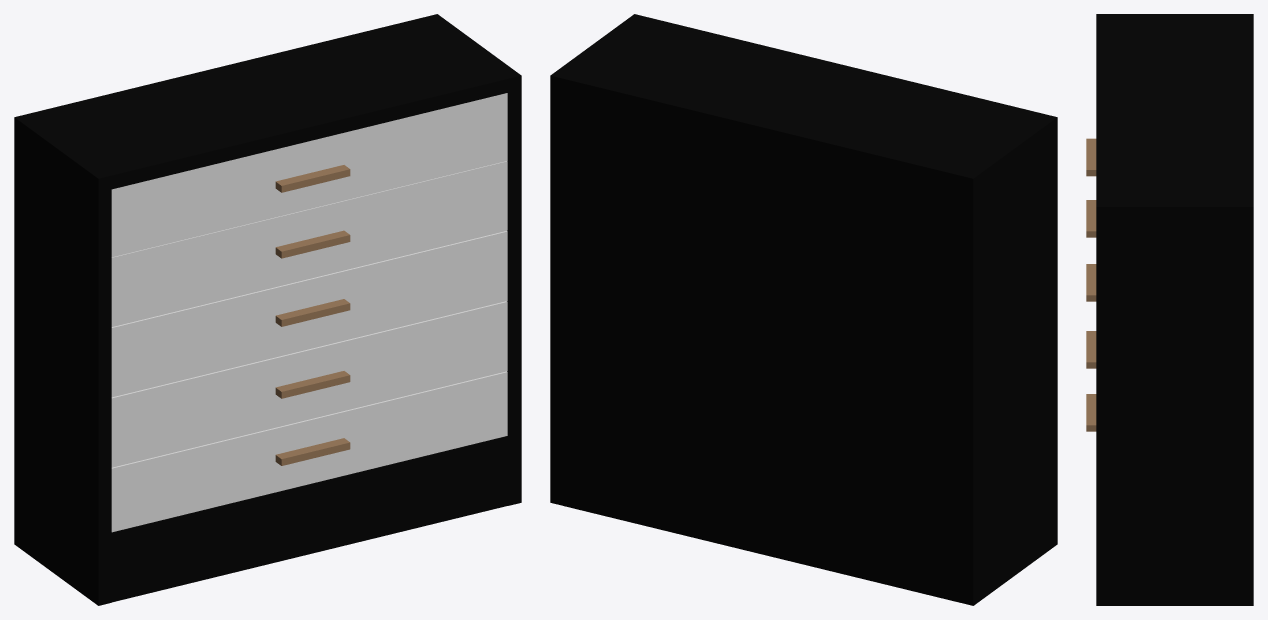
3 views of the same model, side by side, from view 1: azimuth 30°, elevation 25°; view 2: azimuth 150°, elevation 25°; view 3: azimuth 270°, elevation 25° (orthographic). The views are drawn at different scales.
Visible parts, largest first — view 1: Cube.004, Cube.003, Cube.005, Cube.008, Cube.007, Cube.006, Cube.001, Cube.009, Cube.002, Cube.012, Cube.013, Cube.010 (+2 smaller); view 2: Cube, Cube.004, Cube.003, Cube.002; view 3: Cube.002, Cube.004, Cube.010, Cube.011, Cube.012, Cube.013, Cube.014.
Part boxes in pixels (left/top/right/bottom): Cube.004: left=14, top=14, right=521, bottom=192; Cube.003: left=14, top=131, right=111, bottom=605; Cube.005: left=111, top=436, right=508, bottom=602; Cube.008: left=111, top=301, right=507, bottom=467; Cube.007: left=111, top=231, right=507, bottom=397; Cube.006: left=111, top=161, right=507, bottom=326; Cube.001: left=111, top=93, right=507, bottom=257; Cube.009: left=111, top=371, right=507, bottom=532; Cube.002: left=507, top=89, right=521, bottom=505; Cube.012: left=275, top=299, right=350, bottom=326; Cube.013: left=275, top=371, right=350, bottom=398; Cube.010: left=275, top=165, right=350, bottom=192; Cube: left=563, top=93, right=960, bottom=602; Cube.004: left=550, top=14, right=1057, bottom=192; Cube.003: left=960, top=131, right=1057, bottom=605; Cube.002: left=550, top=89, right=563, bottom=505; Cube.002: left=1096, top=219, right=1253, bottom=605; Cube.004: left=1096, top=14, right=1253, bottom=219; Cube.010: left=1086, top=138, right=1096, bottom=176; Cube.011: left=1086, top=200, right=1096, bottom=237; Cube.012: left=1086, top=264, right=1096, bottom=301; Cube.013: left=1086, top=331, right=1096, bottom=368; Cube.014: left=1086, top=394, right=1096, bottom=431.
Bounding box in the file's own units: 0.6387 × 0.6163 × 0.234.
